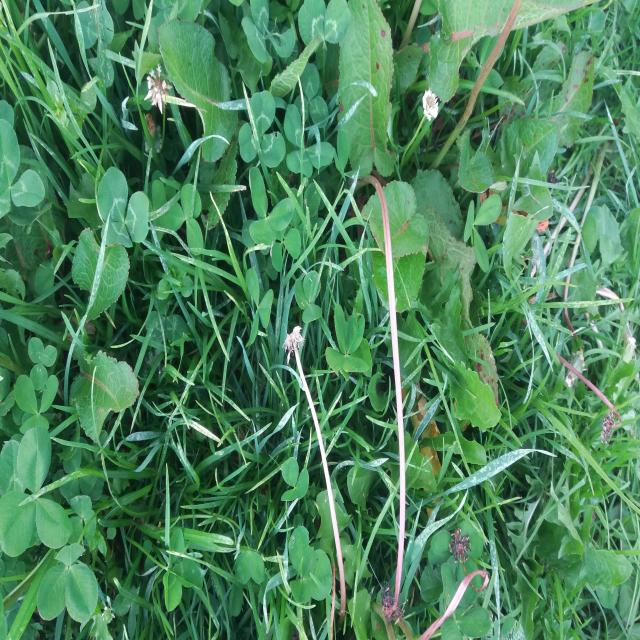Four Leaf Clover: (325, 303, 369, 382)
